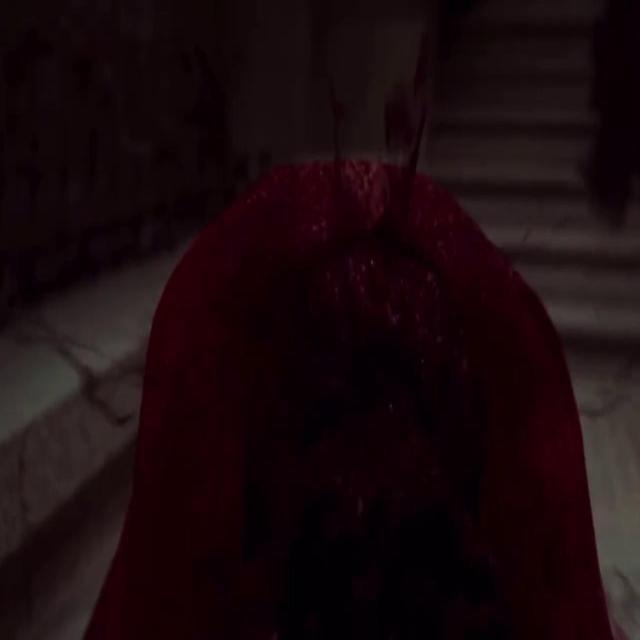flood: (138, 149, 581, 640)
